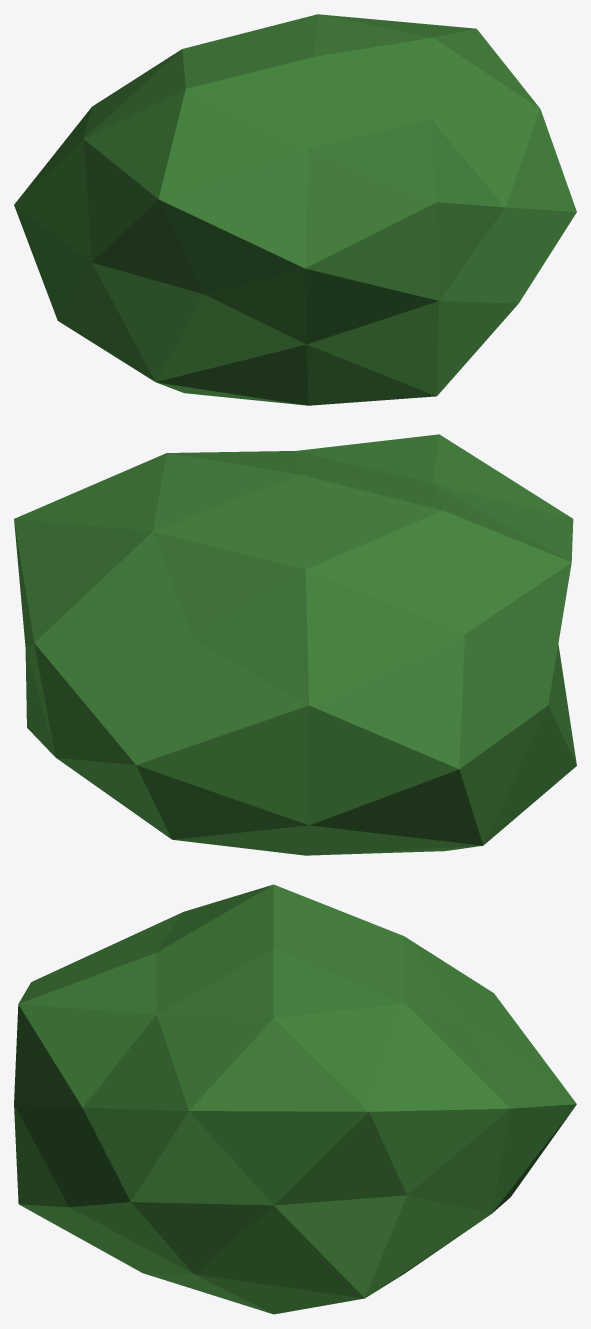
The model's file is bush_small.obj.
3 views of the same model, one above another, from view 1: azimuth 30°, elevation 25°; view 2: azimuth 150°, elevation 25°; view 3: azimuth 270°, elevation 25° (orthographic). The views are drawn at different scales.
Parts seen in each view (by area): view 1: bush_small; view 2: bush_small; view 3: bush_small.
Boxes of the visible parts, x1,y1,x2,y2 form: bush_small: (14, 14, 576, 405); bush_small: (14, 434, 576, 855); bush_small: (14, 884, 576, 1314).
Size of the model in its own units: 1.36 by 0.9202 by 1.49.
